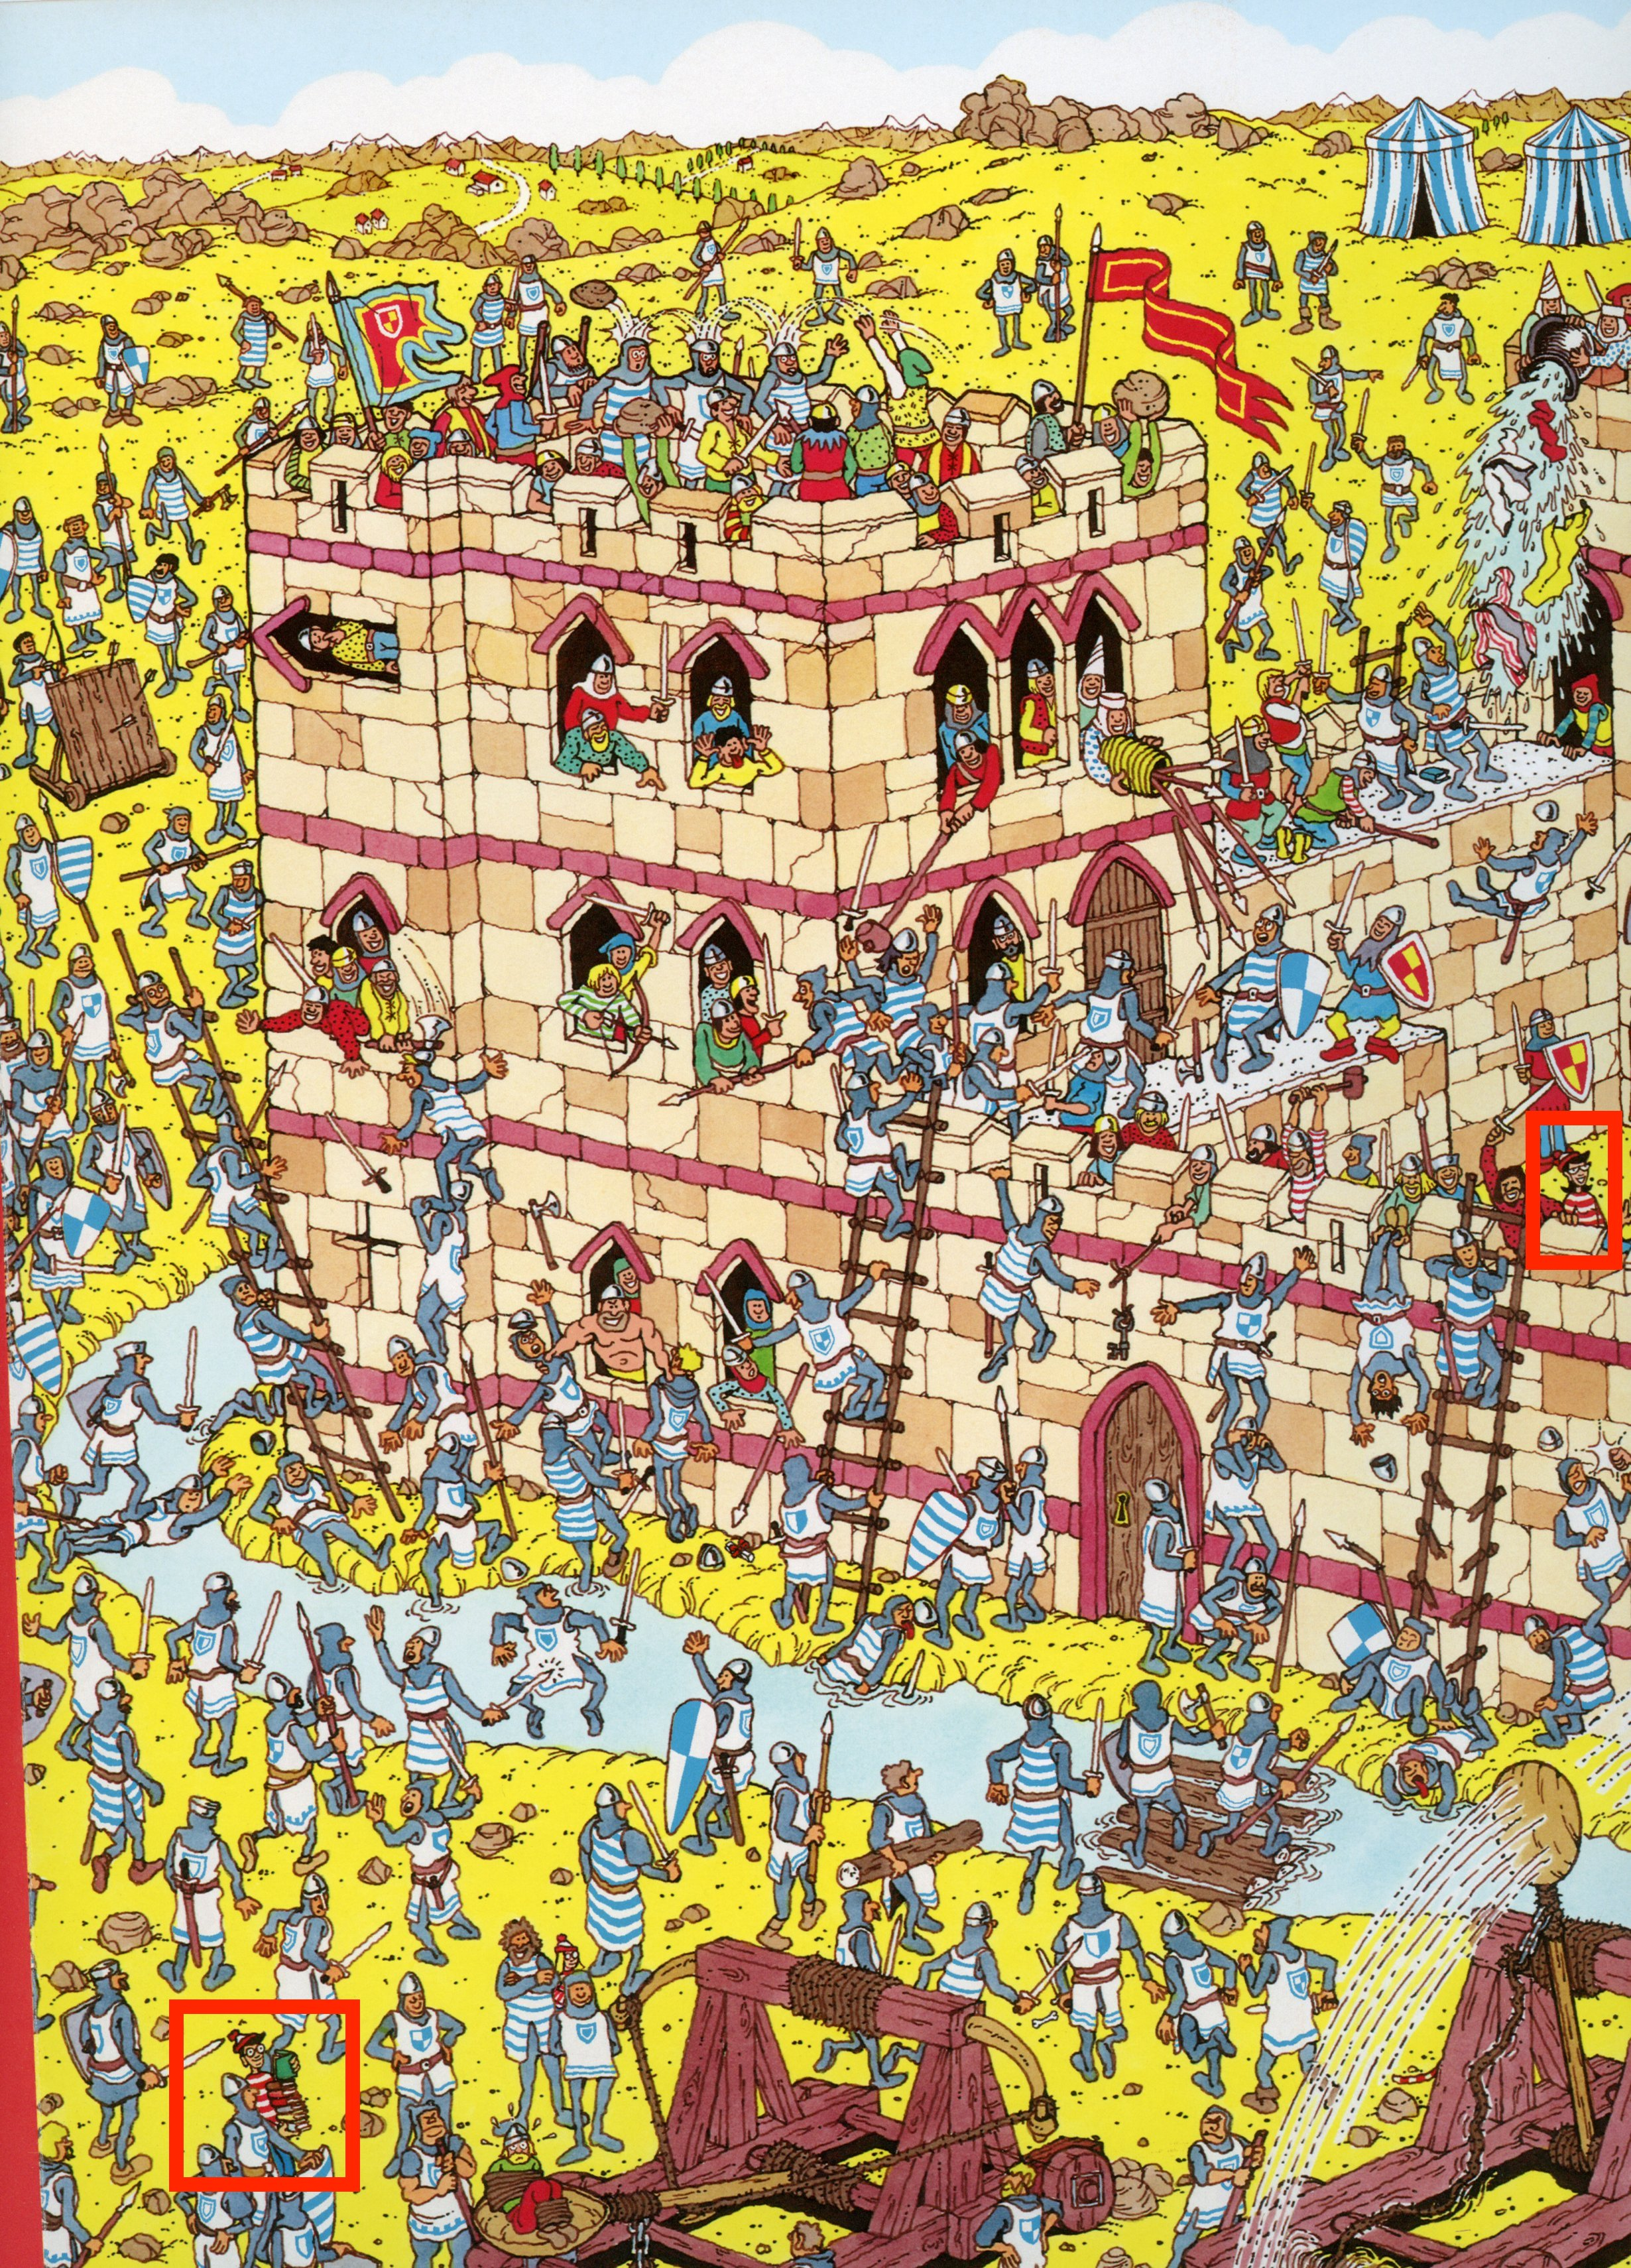waldo: (183, 2007, 384, 2212)
wenda: (1539, 1120, 1631, 1271)
